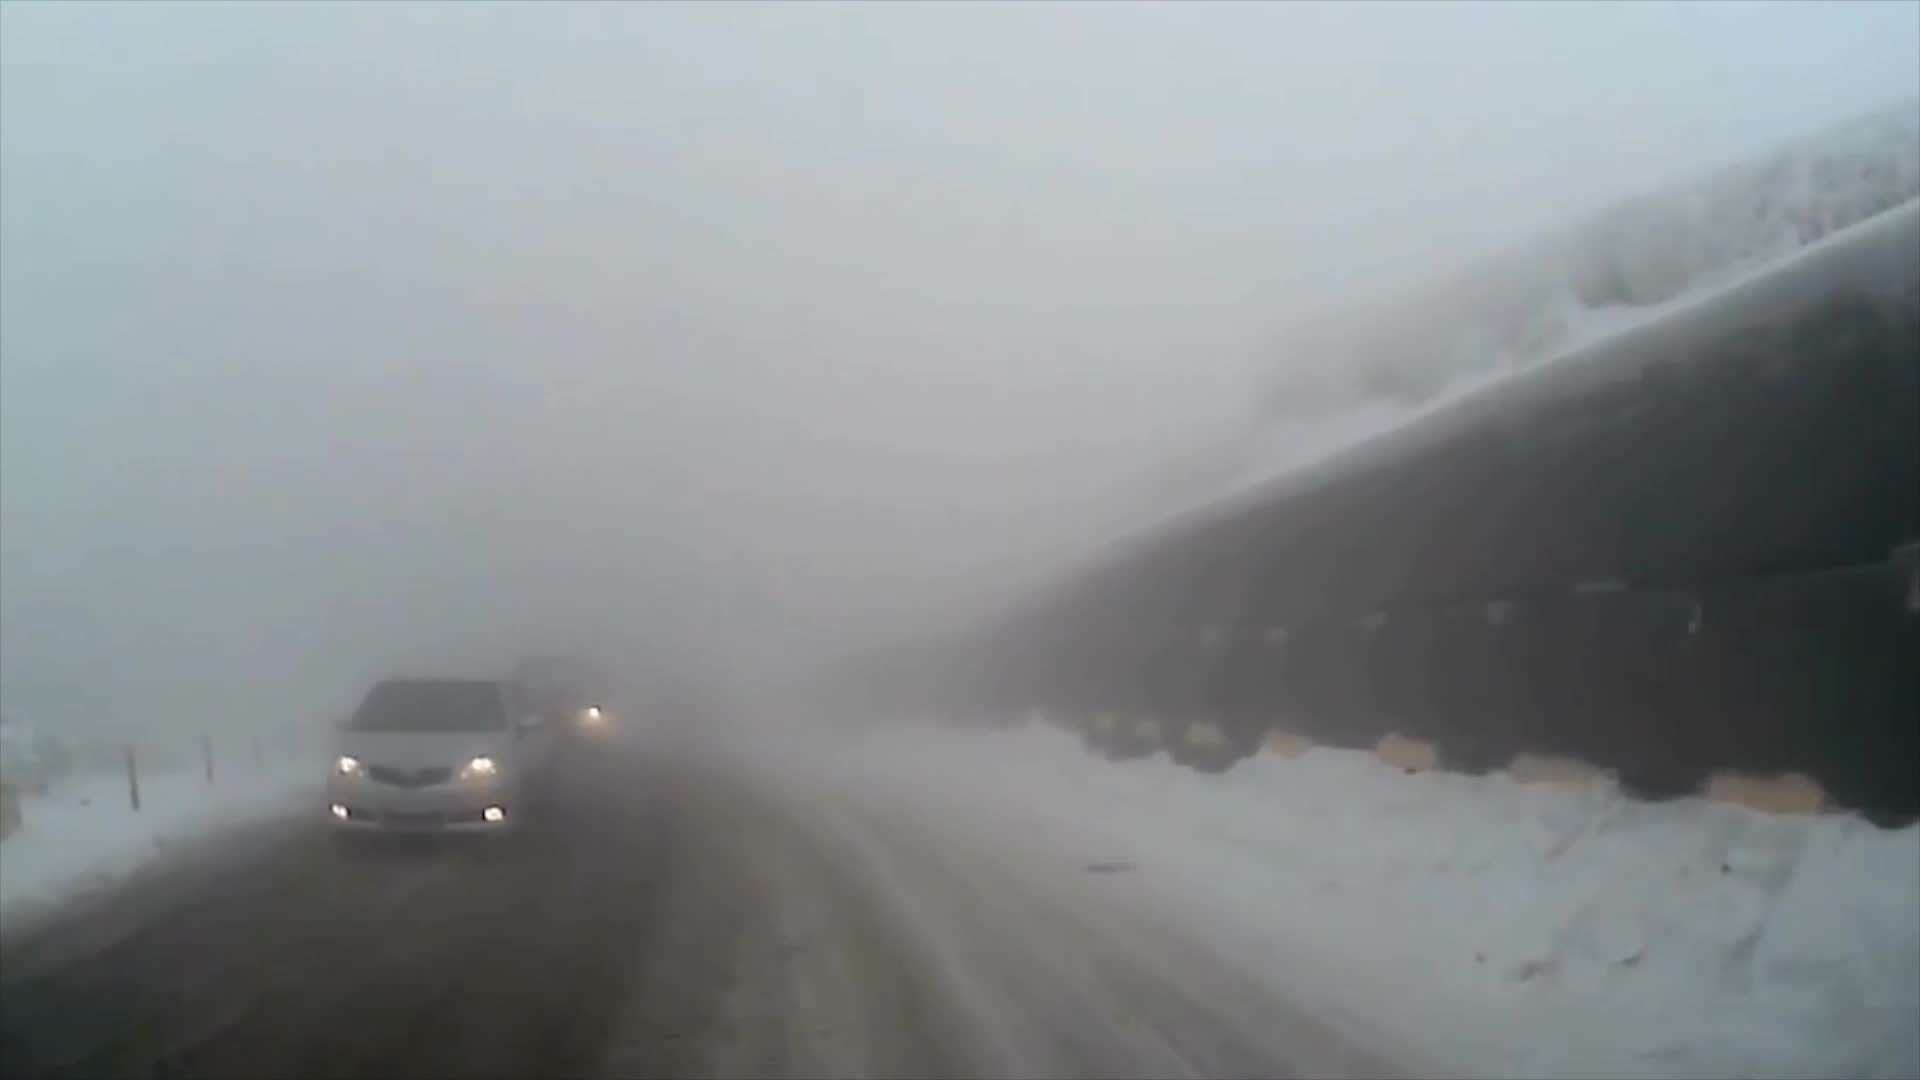vehicle: (322, 673, 553, 855)
